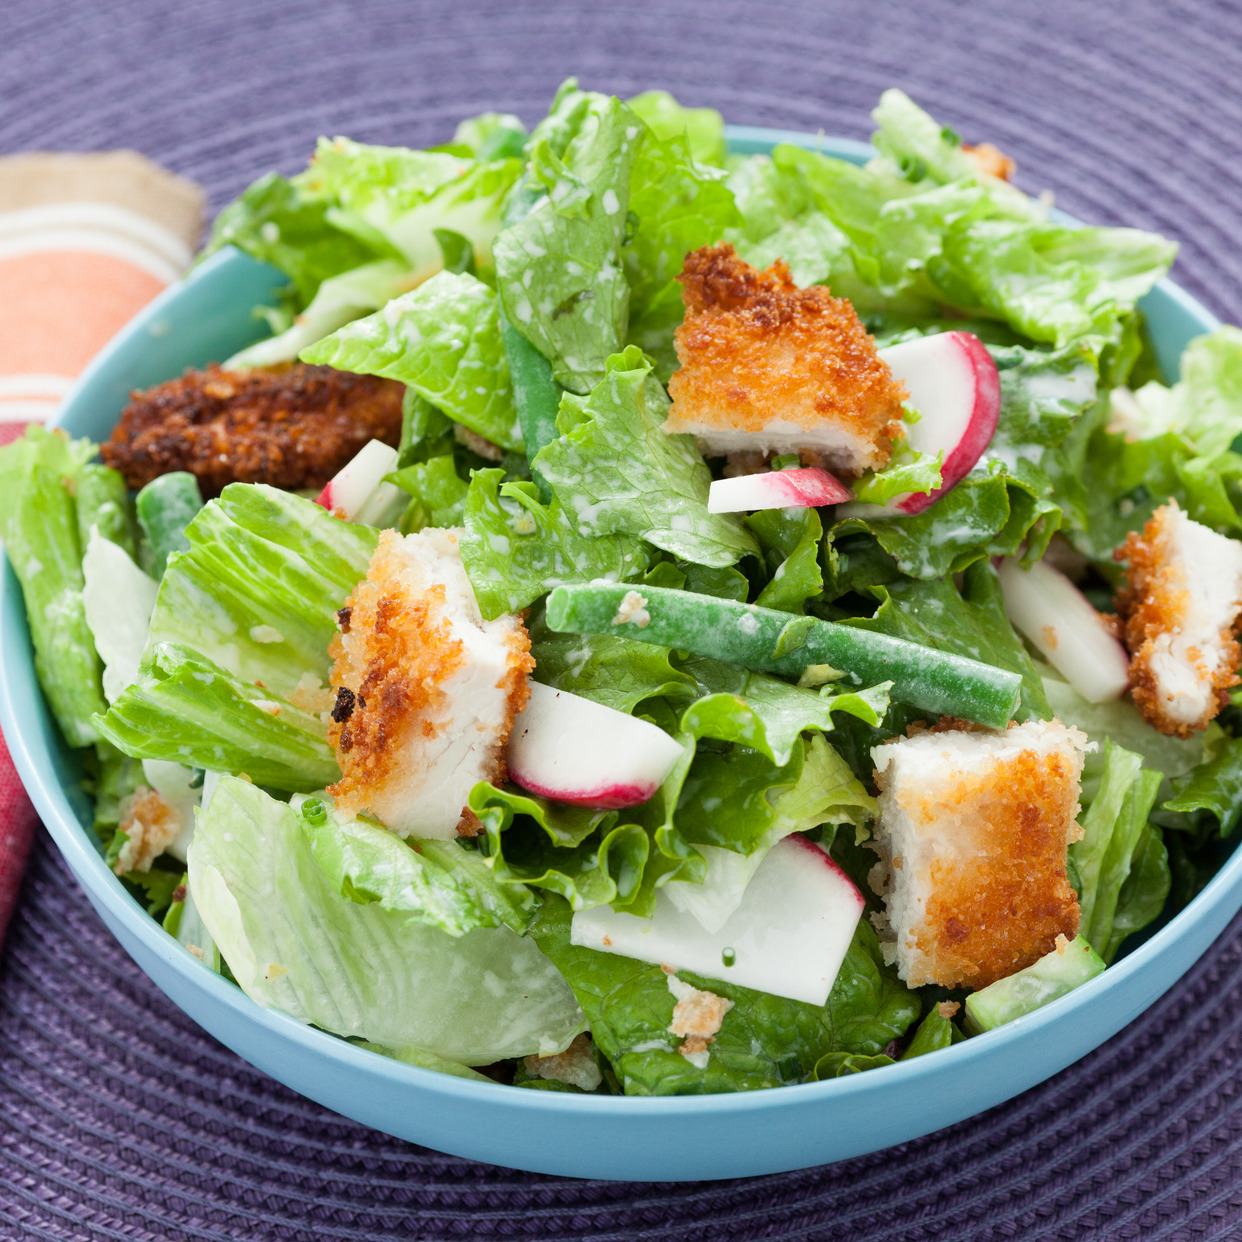chopped lettuce: (246, 276, 1144, 957), (323, 118, 689, 487)
